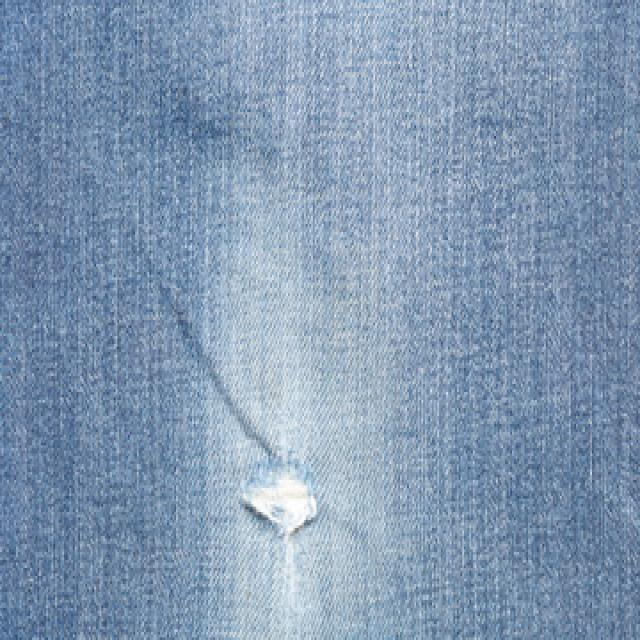seam: (228, 426, 340, 552)
